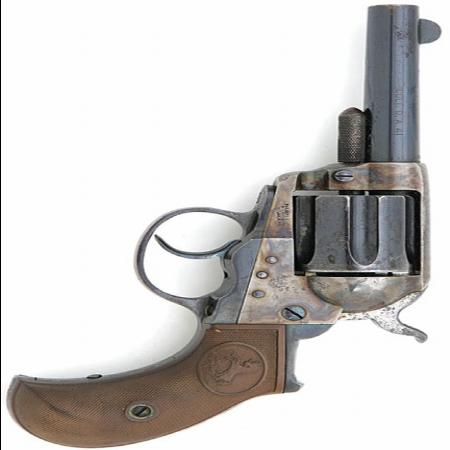Pistol: (8, 3, 442, 446)
